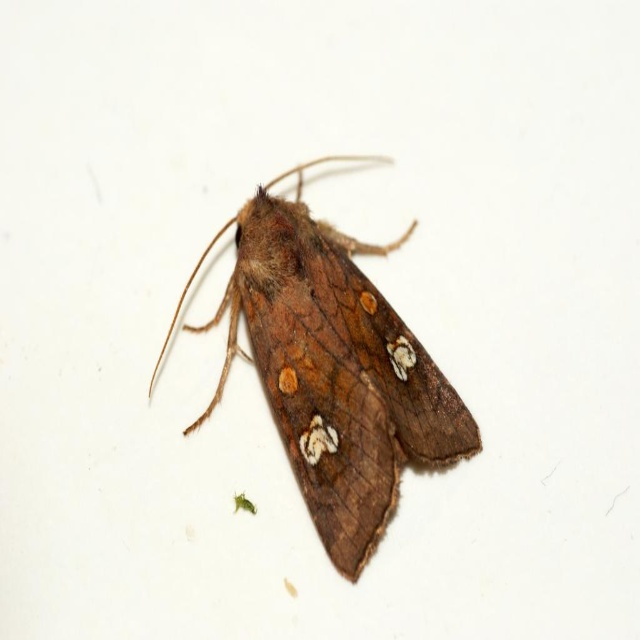Moths and butterflies: (148, 150, 485, 588)
